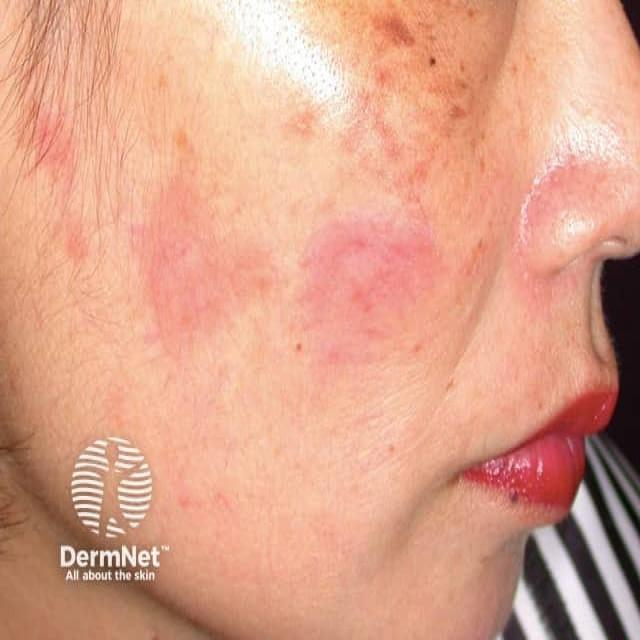lupus-detected: (32, 100, 502, 428)
